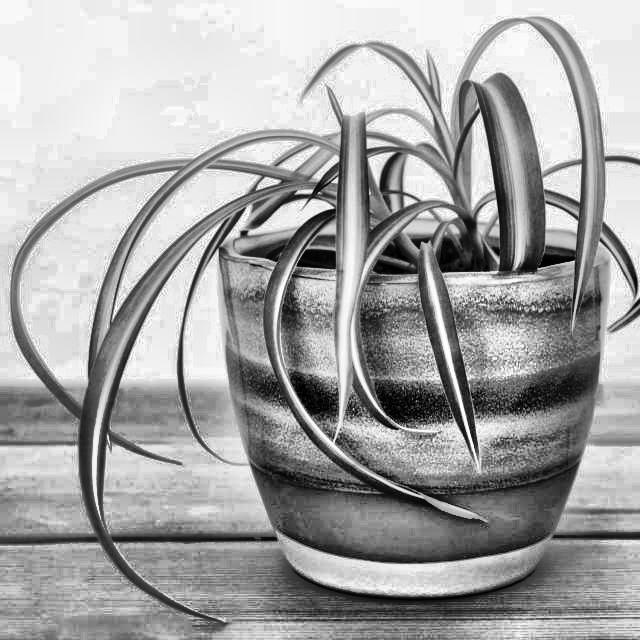plants: (8, 16, 626, 584)
